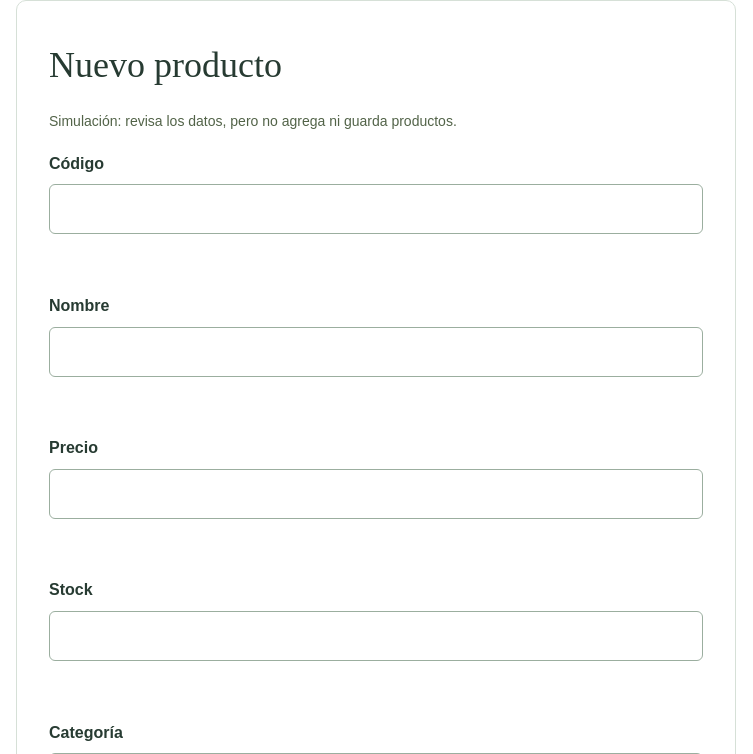
Test: Formularios de administración › CP-14: acepta precio y stock cero y explica que el cambio no se guarda
Type "CN099" into the field labelled "Código" at x=376, y=209, box x1=49 y1=184 x2=703 y2=234
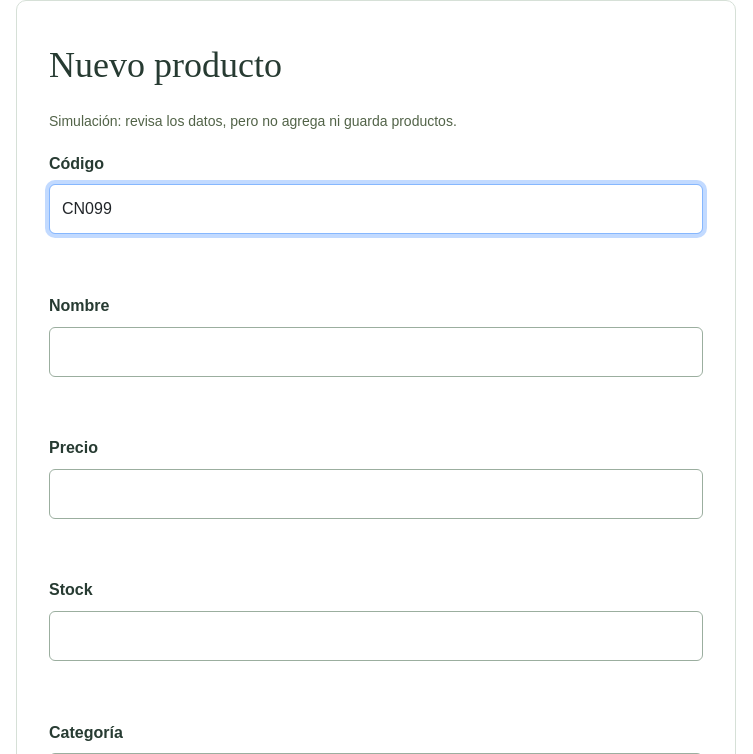
Type "Consulta de ejemplo" into the field labelled "Nombre" at x=376, y=352, box x1=49 y1=327 x2=703 y2=377
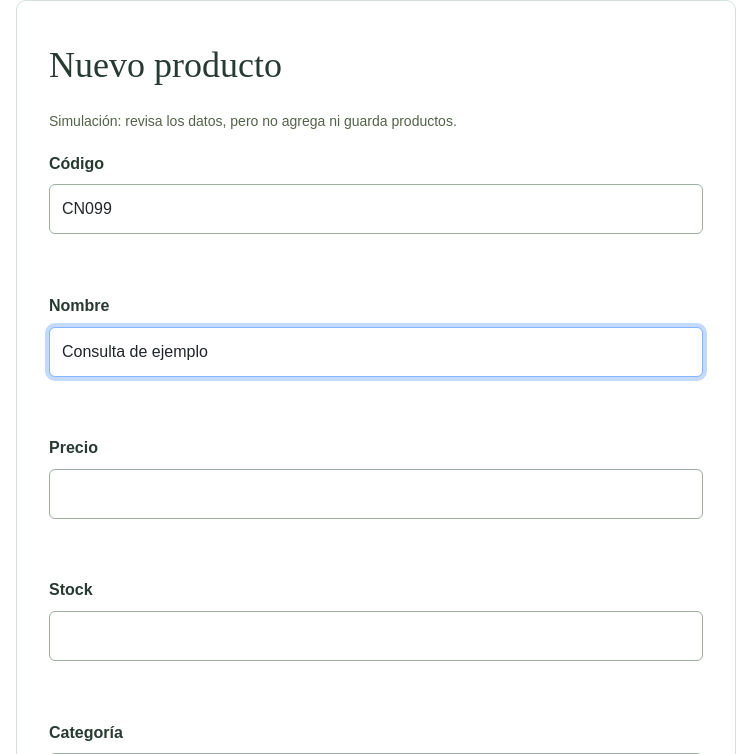
Type "0" into the number field labelled "Precio" at x=376, y=494, box x1=49 y1=469 x2=703 y2=519
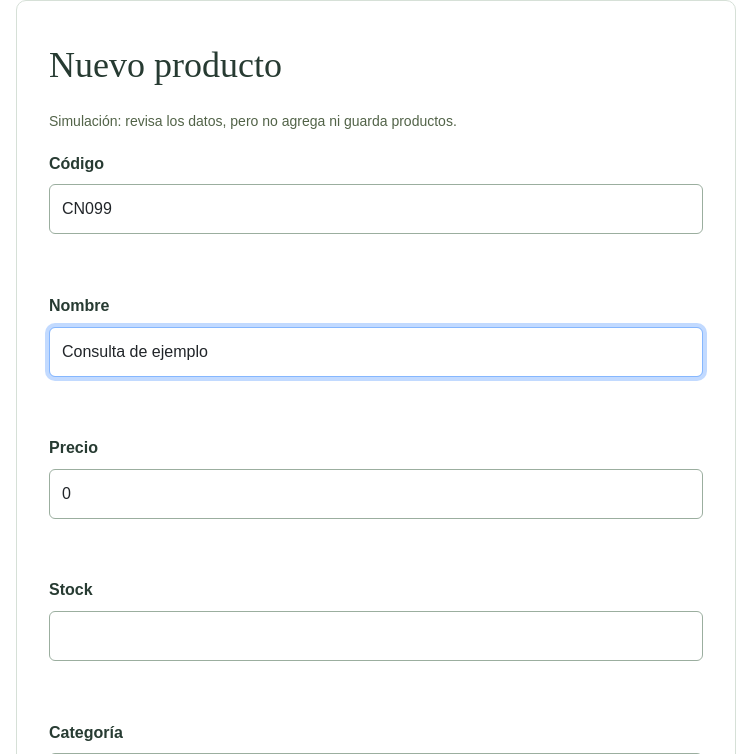
Type "0" into the number field labelled "Stock" at x=376, y=636, box x1=49 y1=611 x2=703 y2=661
(page scrolled)
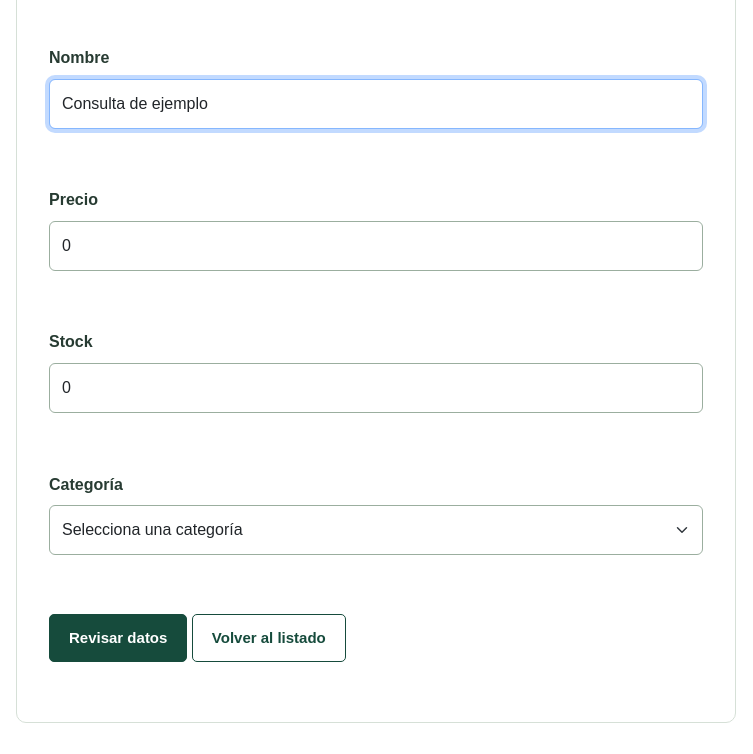
Select "Consulta" in the dropdown labelled "Categoría" at x=376, y=530, box x1=49 y1=505 x2=703 y2=555
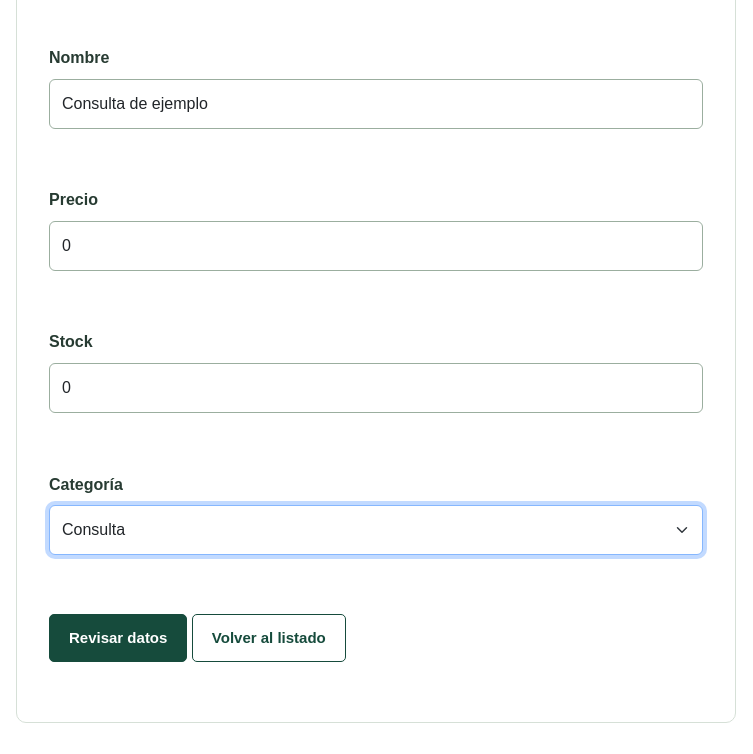
Click the button "Revisar datos" at x=118, y=638, box x1=49 y1=614 x2=187 y2=662
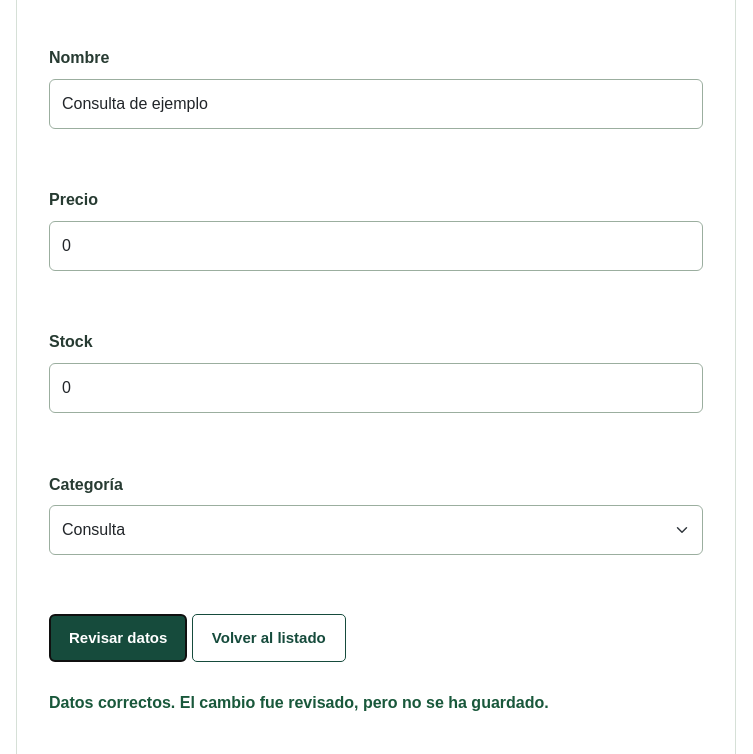
expect the text "Datos correctos. El cambio fue revisado, pero no se ha guardado." is shown: met, box x1=49 y1=694 x2=549 y2=711
